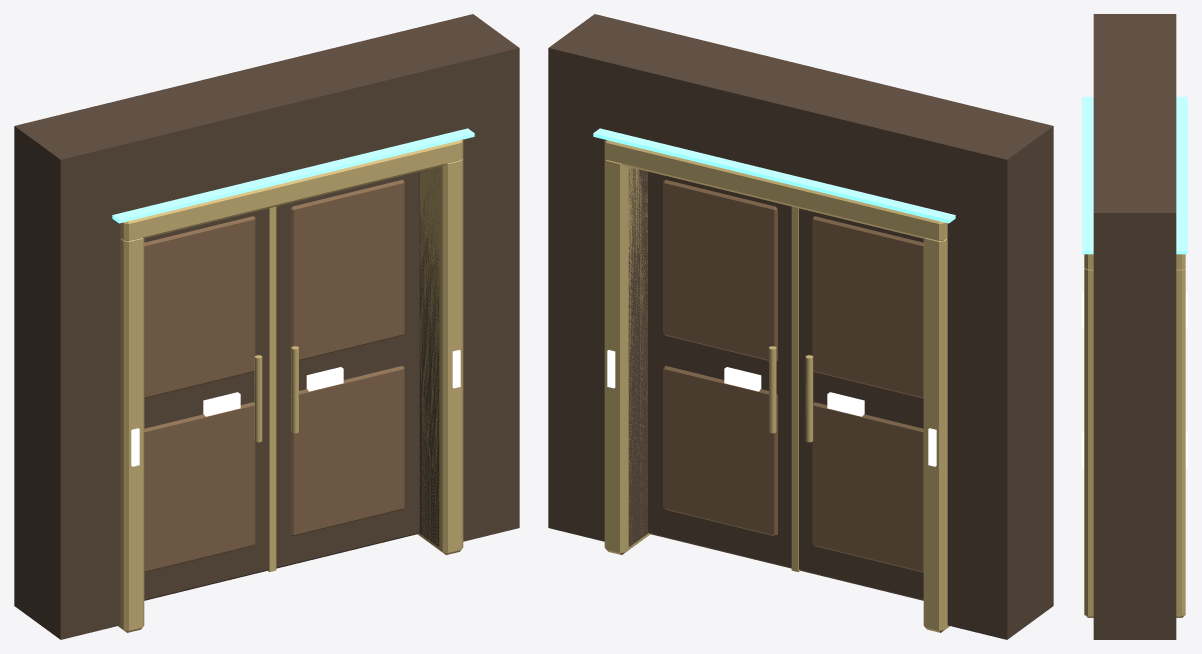
Rendered from door_ex_double.glb.
3 renders of one model, left to right at view 1: azimuth 30°, elevation 25°; view 2: azimuth 150°, elevation 25°; view 3: azimuth 270°, elevation 25°, orthographic. The views are drawn at different scales.
Visible parts, largest first — view 1: frame, leaf_r, leaf_l; view 2: frame, leaf_r, leaf_l; view 3: frame.
Boxes of the visible parts, box(x1,y1,x2,y2) form: frame: box(14, 14, 519, 639); leaf_r: box(273, 171, 419, 571); leaf_l: box(144, 207, 272, 600); frame: box(548, 14, 1053, 639); leaf_r: box(648, 171, 794, 571); leaf_l: box(795, 207, 923, 600); frame: box(1082, 14, 1187, 639).
Size of the model in its own units: 4 by 4.05 by 0.9.
